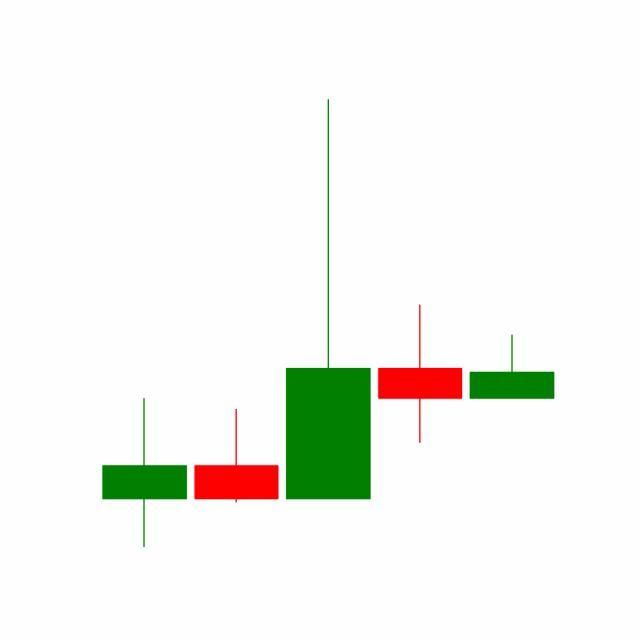Spinning Top: (374, 304, 468, 446)
